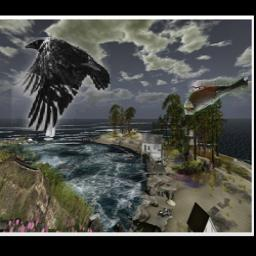Crow: (12, 38, 112, 132)
Cuckoo: (182, 77, 249, 116)
